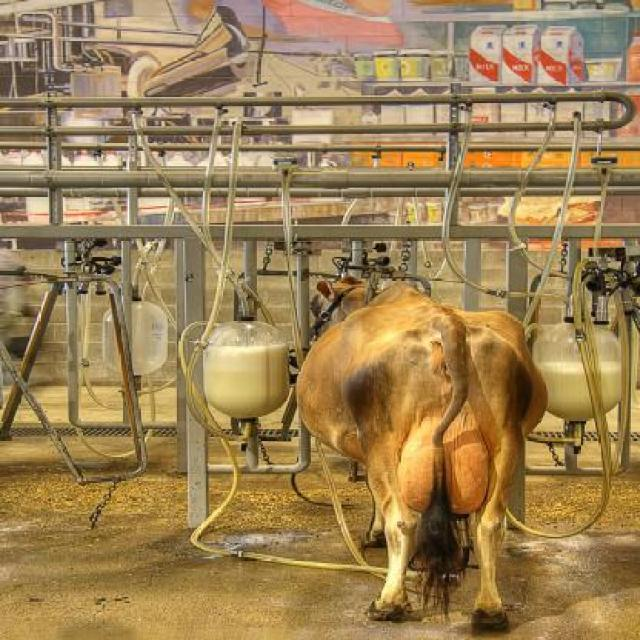Milk: (201, 342, 290, 418), (536, 364, 630, 424)
